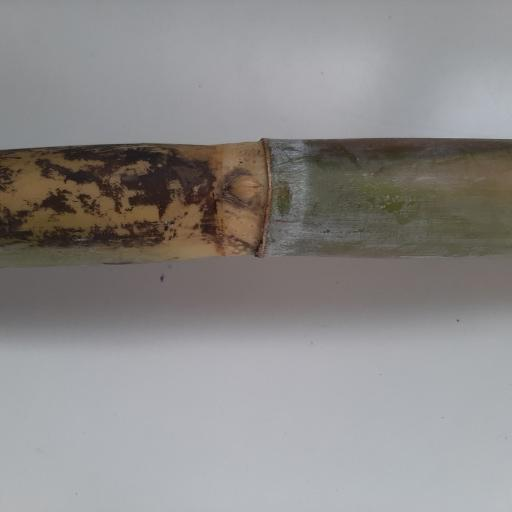Bud: (222, 175, 265, 203)
